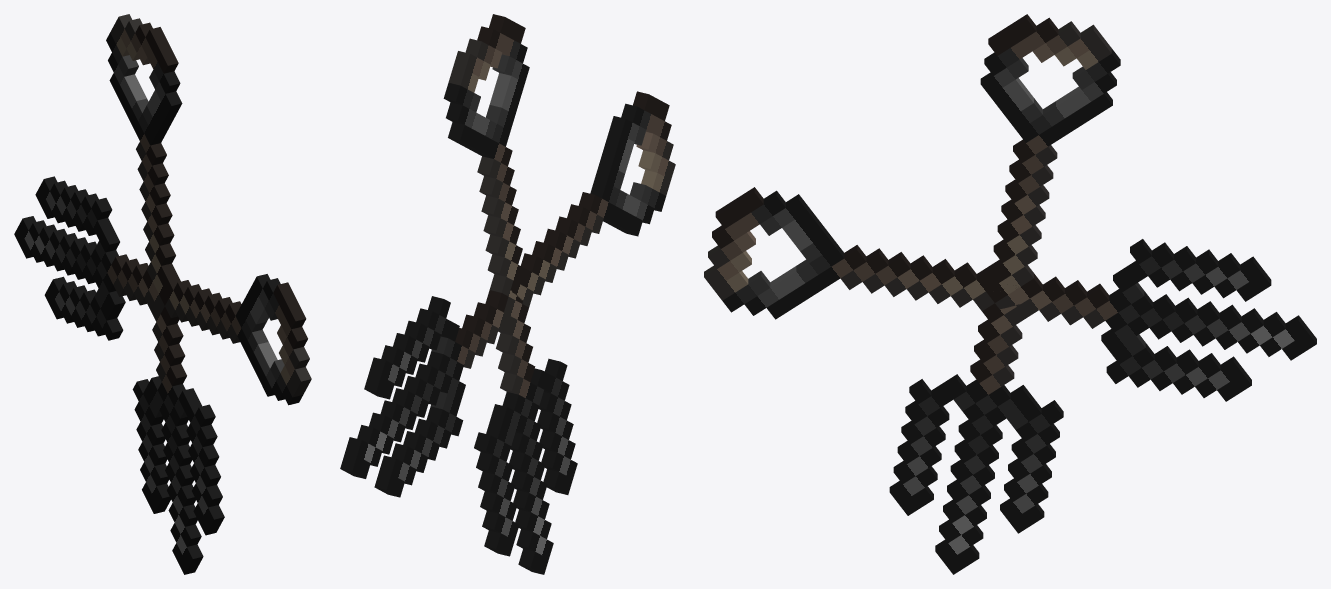
Rendered from pitchfork_lance.glb.
The picture shows the model from 3 angles, left to right: view 1: azimuth 30°, elevation 25°; view 2: azimuth 150°, elevation 25°; view 3: azimuth 270°, elevation 25°; orthographic projection. The views are drawn at different scales.
Visible parts, largest first — view 1: off__Tool_L, main__Tool_R; view 2: off__Tool_L, main__Tool_R; view 3: main__Tool_R, off__Tool_L.
Boxes of the visible parts, x1,y1,x2,y2 form: off__Tool_L: [106, 14, 224, 574]; main__Tool_R: [14, 176, 311, 405]; off__Tool_L: [443, 14, 577, 574]; main__Tool_R: [340, 91, 675, 497]; main__Tool_R: [704, 187, 1316, 401]; off__Tool_L: [889, 14, 1120, 574].
Size of the model in its own units: 0.0531 by 2.45 by 2.45.
Materials: 1 (1 with a texture image).
